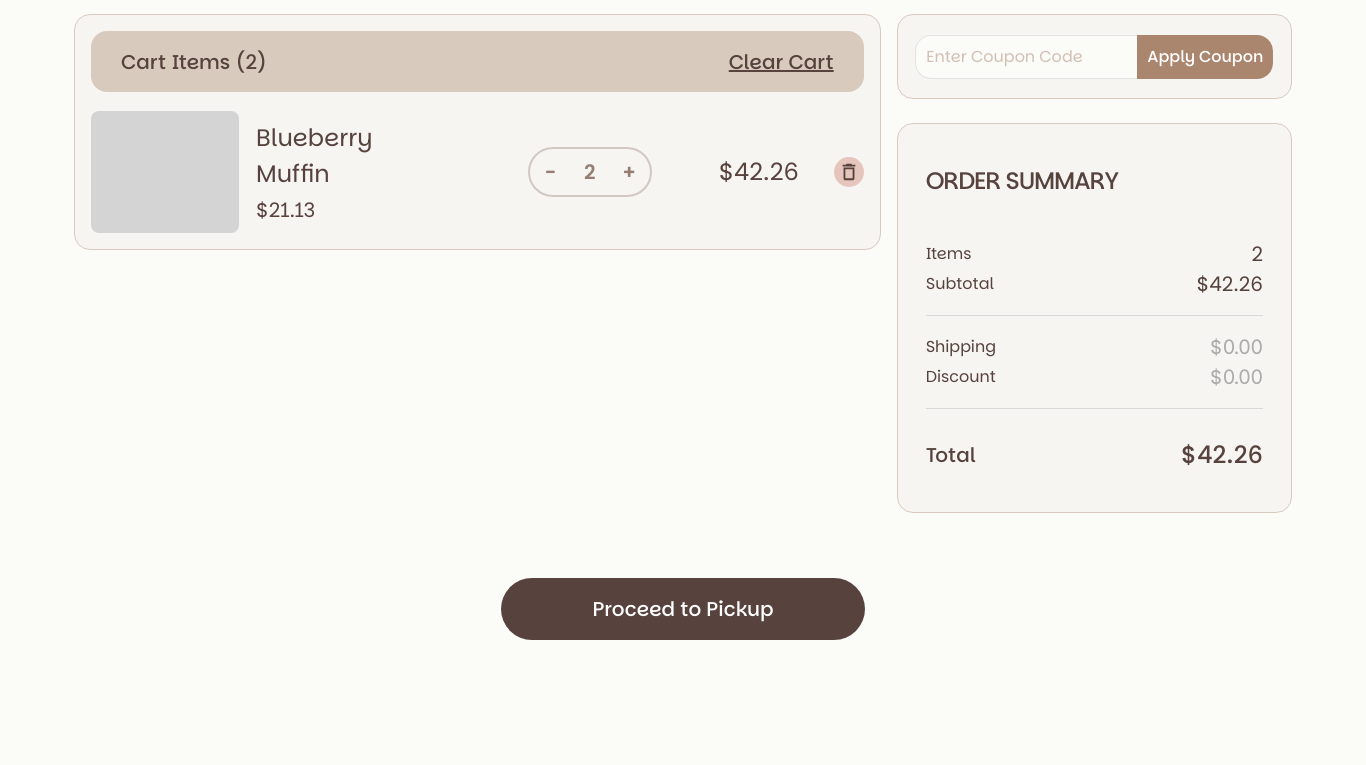
Scenario: Pickup stage 3 - Step 02, date and time › renders real upcoming dates as pills and defaults to the first one selected
(page scrolled)
Click the button "Proceed to Pickup" at (683, 609), box x1=501 y1=578 x2=865 y2=640
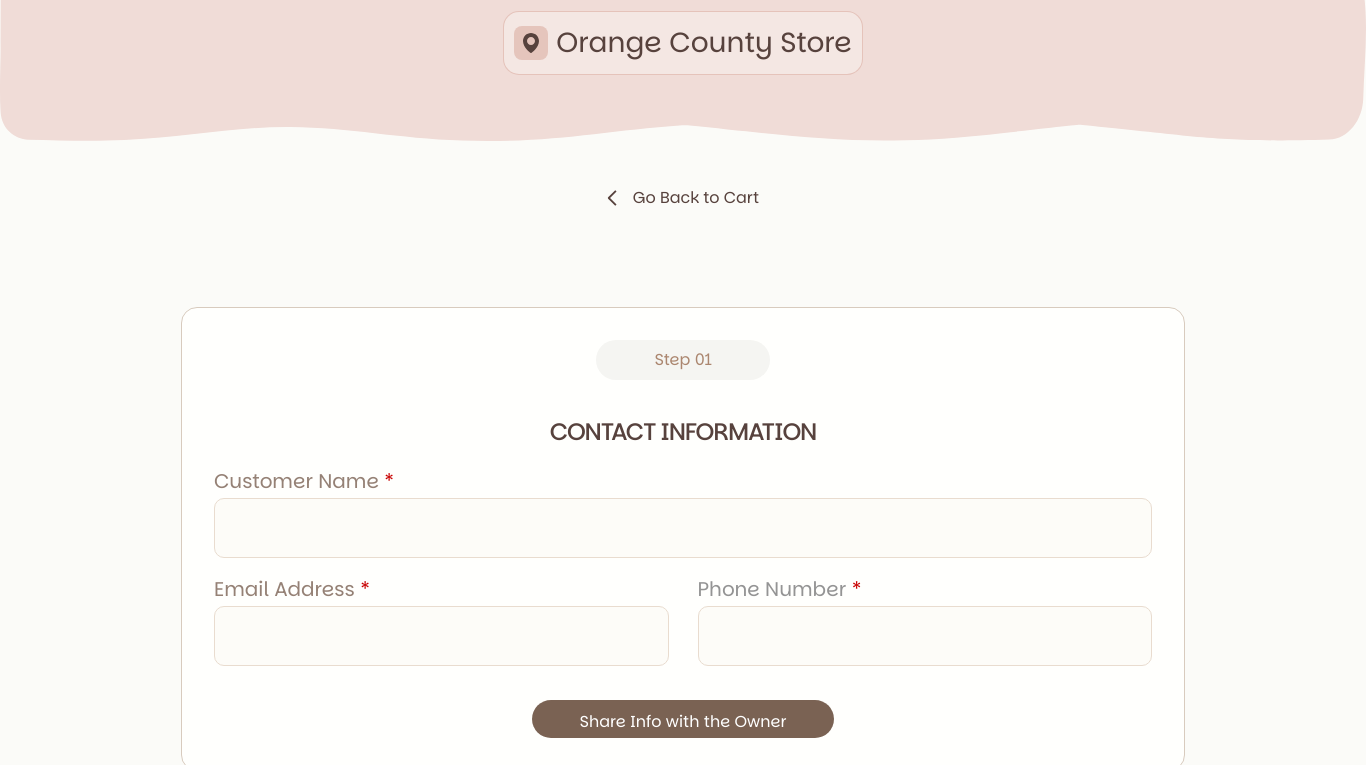
Type "Jess" into the field labelled "Customer Name *" at (683, 528), box x1=214 y1=498 x2=1152 y2=558
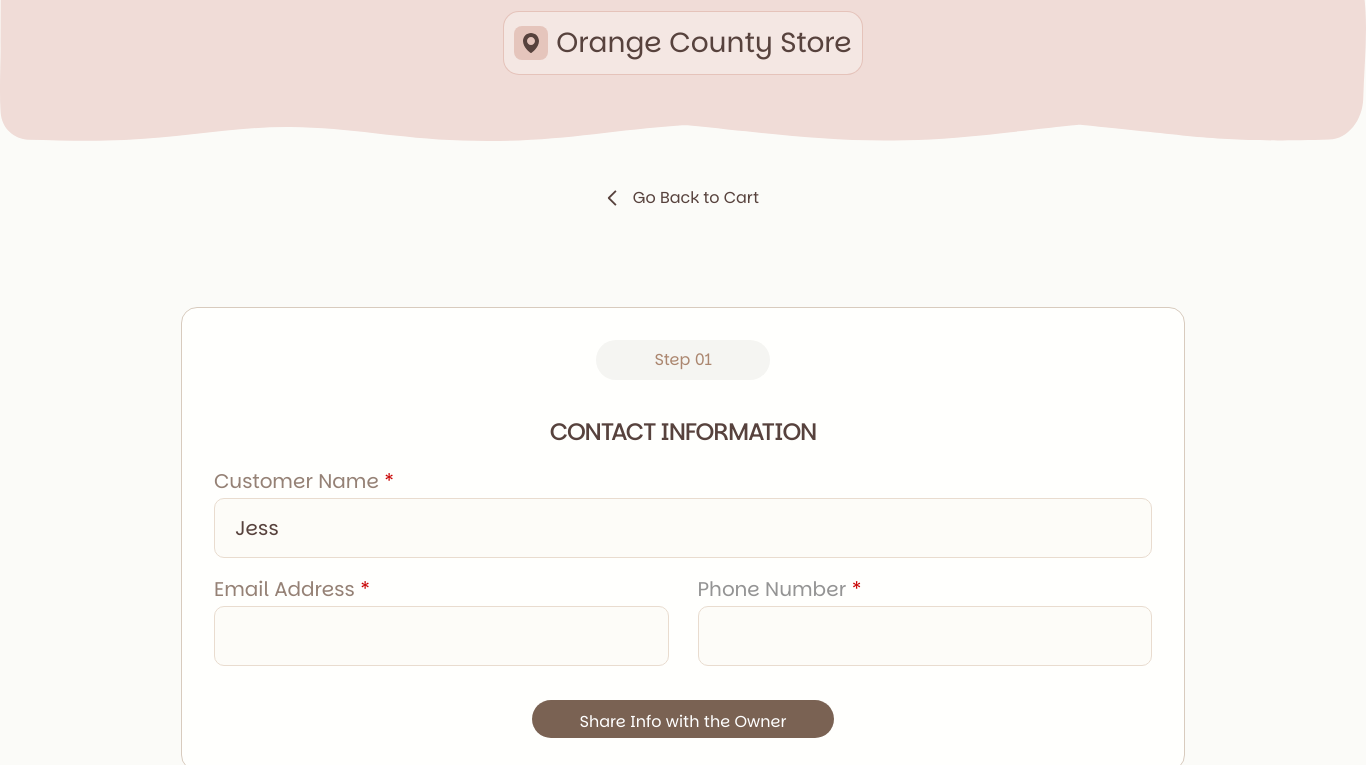
Type "jess@example.com" into the field labelled "Email Address *" at (441, 636), box x1=214 y1=606 x2=668 y2=666
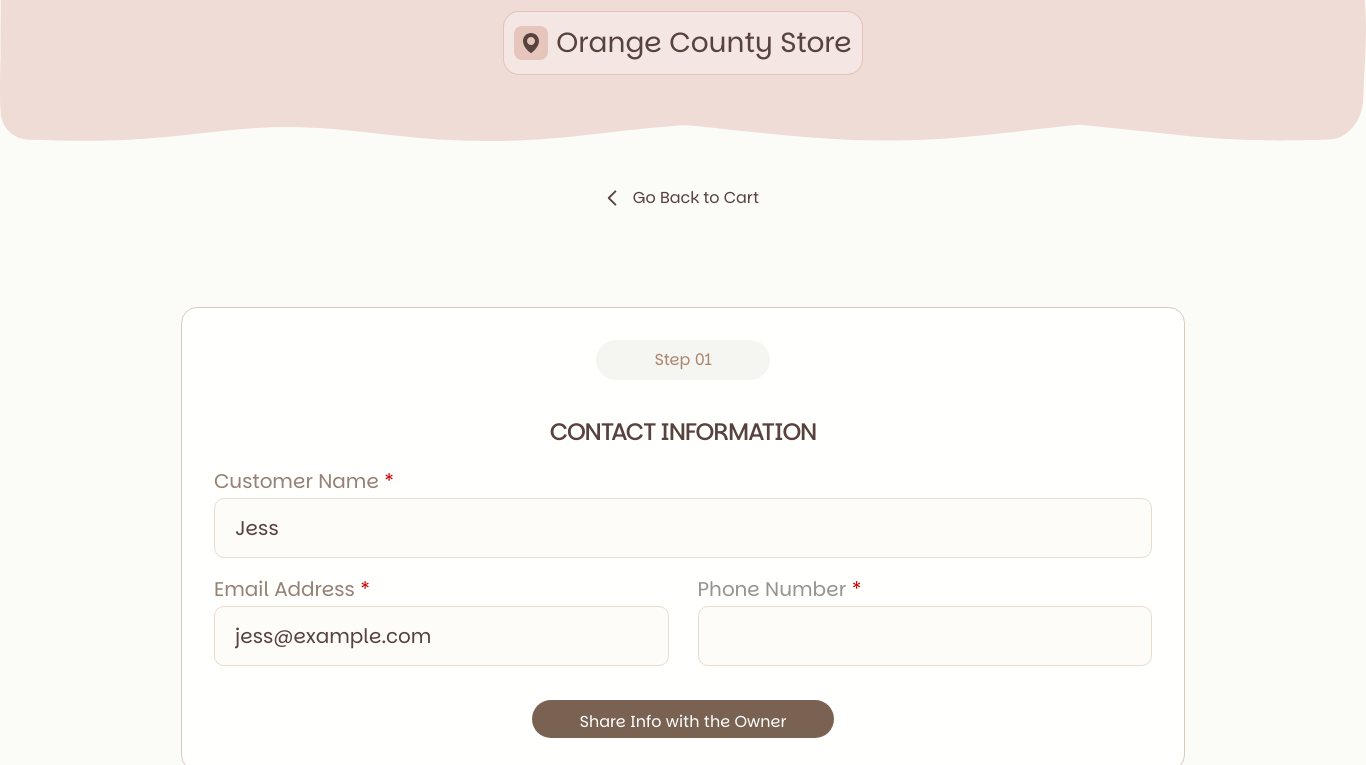
Type "714-555-0123" into the field labelled "Phone Number *" at (925, 636), box x1=698 y1=606 x2=1152 y2=666
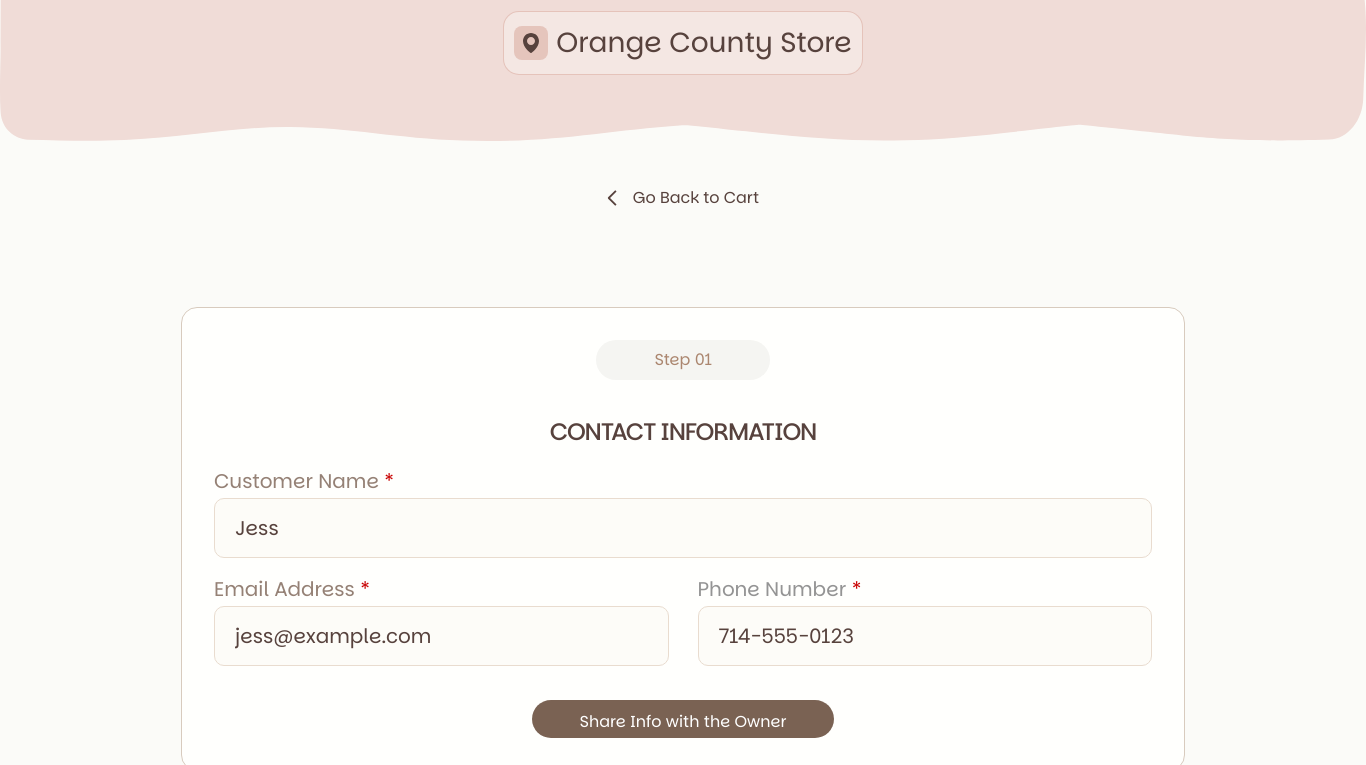
Click the button "Share Info with the Owner" at (683, 719), box x1=532 y1=700 x2=834 y2=738
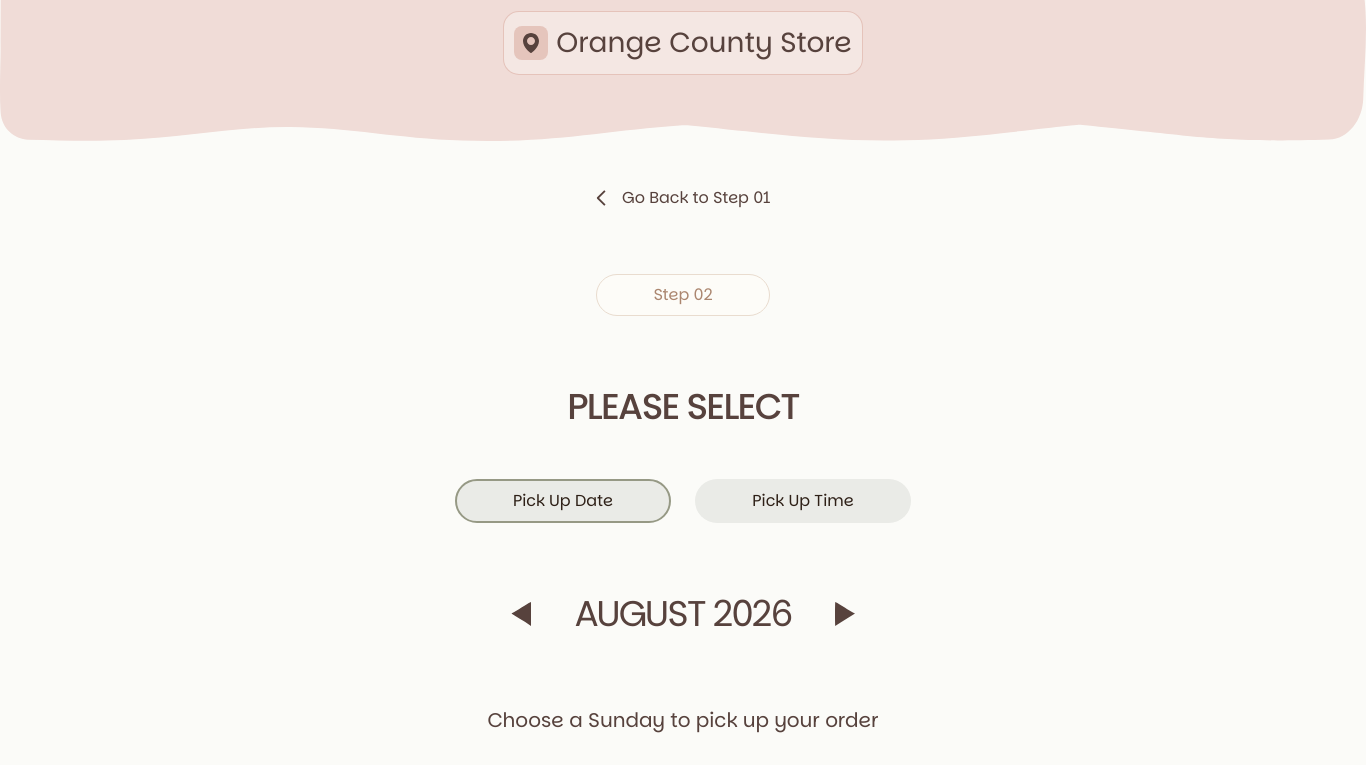
Result: the text "Step 02" is shown at x1=596 y1=274 x2=770 y2=316
